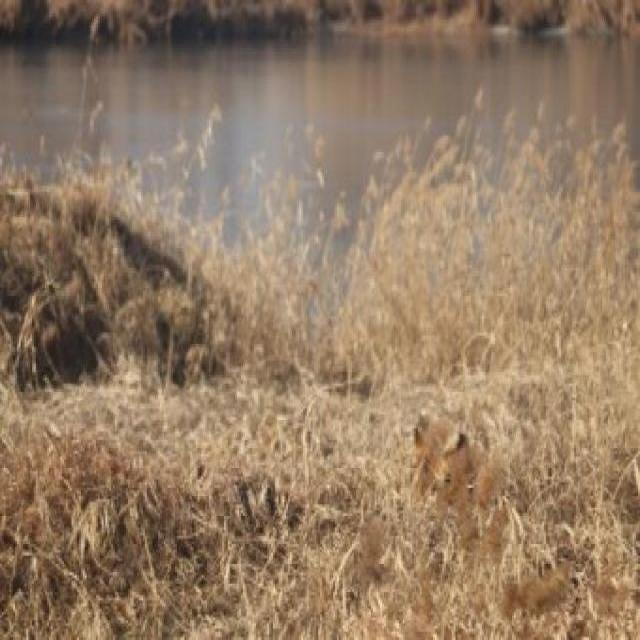deer: (401, 391, 519, 541)
